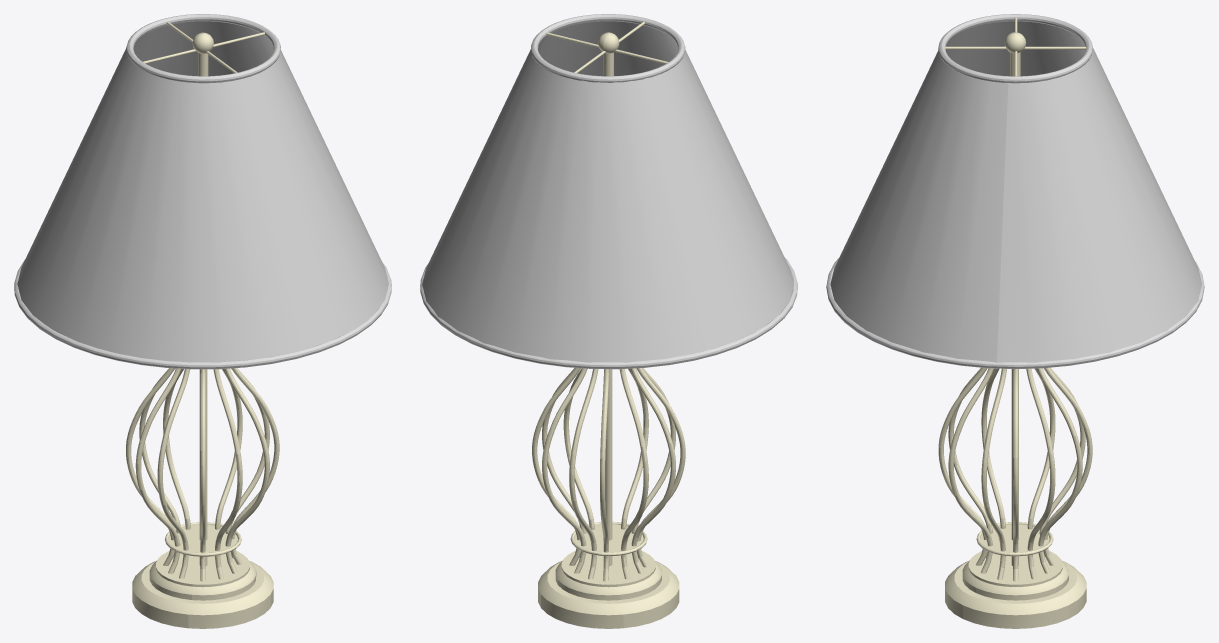
Rendered from sweethome3d-contributions-lamp-245.glb.
3 views of the same model, side by side, from view 1: azimuth 30°, elevation 25°; view 2: azimuth 150°, elevation 25°; view 3: azimuth 270°, elevation 25° (orthographic).
Visible parts, largest first — view 1: lmp4shd_4_4, lmp4gold_3_3; view 2: lmp4shd_4_4, lmp4gold_3_3; view 3: lmp4shd_4_4, lmp4gold_3_3.
Part boxes in pixels (<box>): lmp4shd_4_4: <box>14,14,391,369</box>; lmp4gold_3_3: <box>126,21,279,628</box>; lmp4shd_4_4: <box>420,14,797,369</box>; lmp4gold_3_3: <box>532,21,685,628</box>; lmp4shd_4_4: <box>826,14,1204,369</box>; lmp4gold_3_3: <box>938,17,1092,628</box>.
Size of the model in its own units: 41.6 by 68.64 by 41.6.
